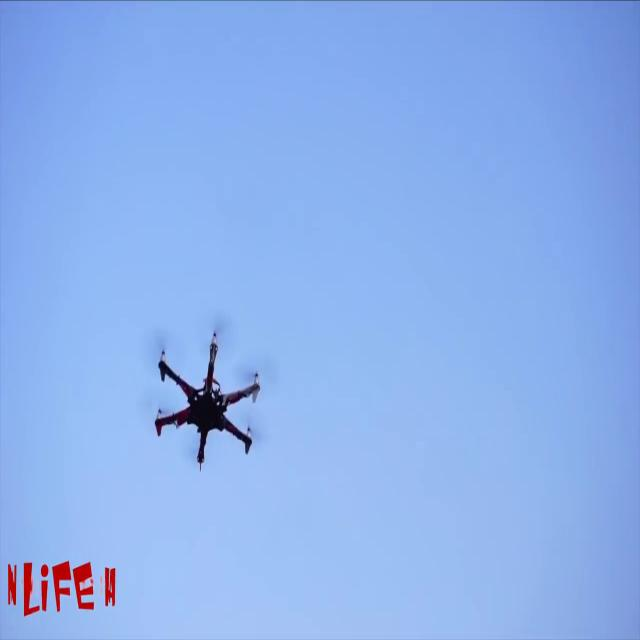drone: (146, 334, 276, 469)
